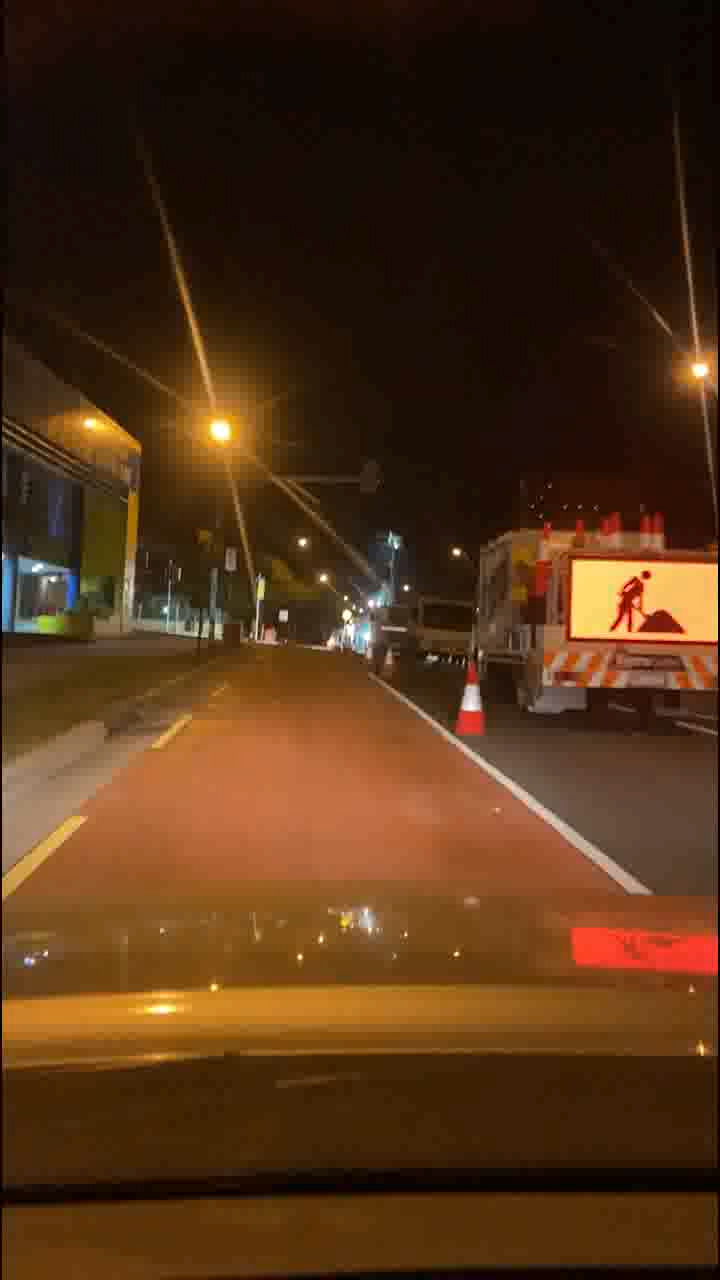truck: (472, 520, 715, 688)
